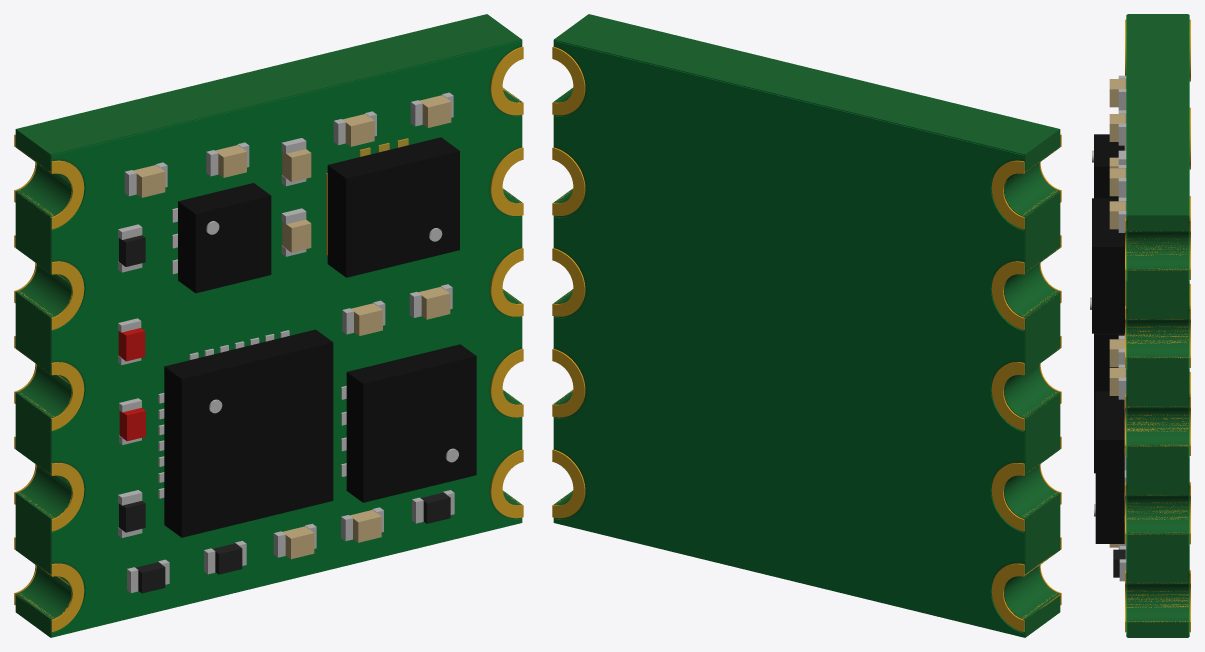
3 renders of one model, left to right at view 1: azimuth 30°, elevation 25°; view 2: azimuth 150°, elevation 25°; view 3: azimuth 270°, elevation 25°, orthographic. The views are drawn at different scales.
Parts seen in each view (by area): view 1: CH32 PCB; view 2: CH32 PCB; view 3: CH32 PCB.
Part boxes in pixels (x1=…): CH32 PCB: x1=14, y1=14, x2=523, y2=637; CH32 PCB: x1=552, y1=14, x2=1061, y2=637; CH32 PCB: x1=1090, y1=14, x2=1190, y2=637.
Size of the model in its own units: 2.6 by 2.55 by 0.5505.
